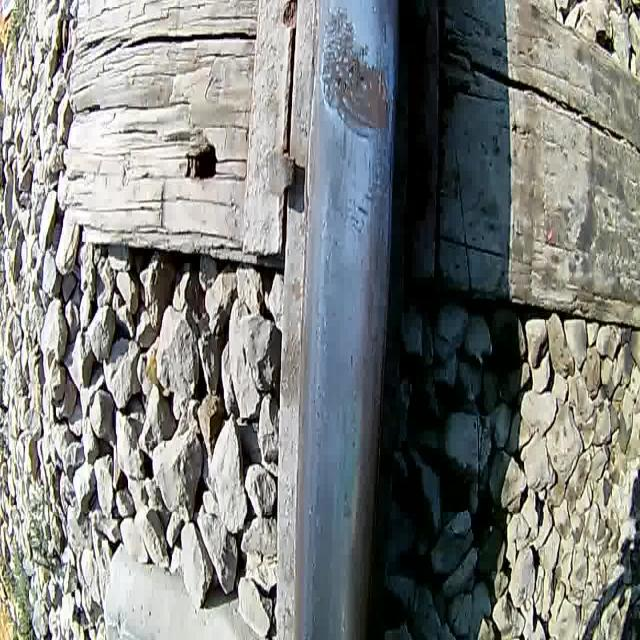Squats: (315, 3, 397, 147), (300, 464, 342, 640)
